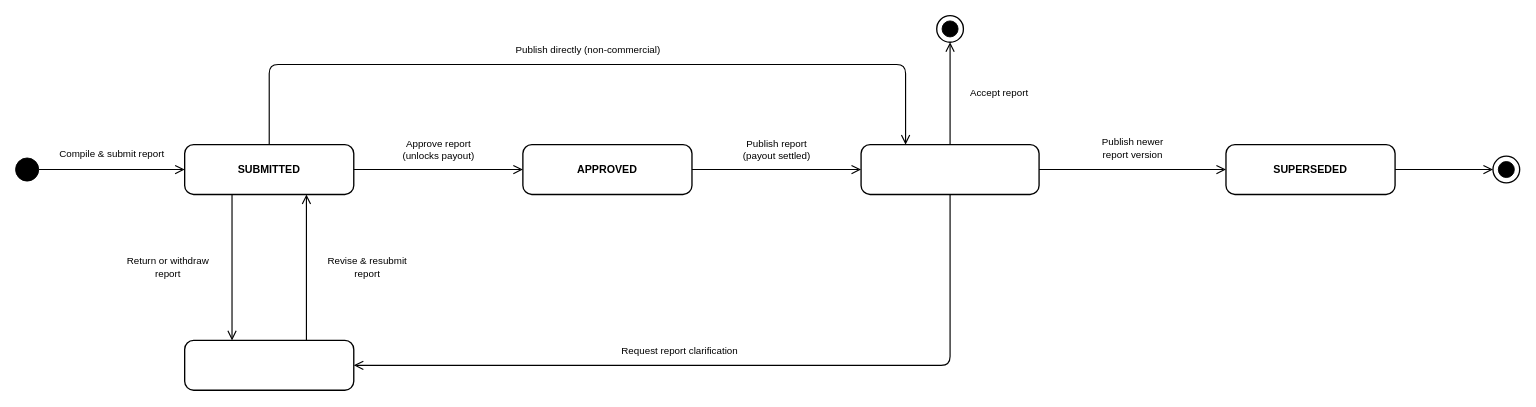
The diagram is 1536 pixels wide and 407 high, and some of its shapes have lost their labels. Each missing label, with the box of its shape:
PUBLISHED: (860, 144, 1039, 195)
RETURNED: (184, 339, 354, 391)
